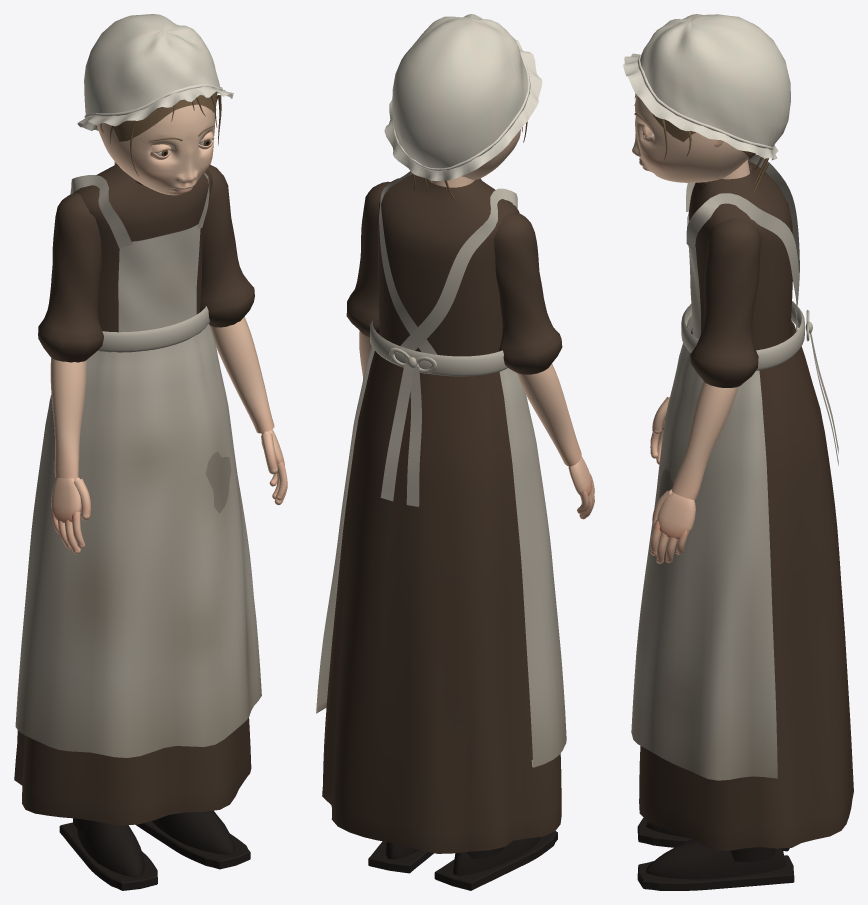
Rendered from becky.glb.
3 renders of one model, left to right at view 1: azimuth 30°, elevation 25°; view 2: azimuth 150°, elevation 25°; view 3: azimuth 270°, elevation 25°, orthographic.
Visible parts, largest first — view 1: body, head, arm_right, arm_right_forearm, arm_left, arm_left_forearm; view 2: body, head, arm_right, arm_right_forearm, arm_left; view 3: body, head, arm_left, arm_left_forearm, arm_right_forearm.
Boxes of the visible parts, x1,y1,x2,y2 form: body: (14, 163, 261, 890); head: (77, 14, 233, 195); arm_right: (38, 192, 103, 362); arm_right_forearm: (50, 357, 91, 554); arm_left: (200, 164, 254, 327); arm_left_forearm: (210, 317, 287, 505); body: (316, 171, 566, 890); head: (384, 14, 542, 199); arm_right: (494, 212, 562, 374); arm_right_forearm: (517, 364, 594, 519); arm_left: (346, 181, 390, 337); body: (631, 154, 853, 890); head: (623, 14, 790, 192); arm_left: (690, 218, 760, 387); arm_left_forearm: (650, 381, 738, 563); arm_right_forearm: (650, 397, 669, 464).
Size of the model in its own units: 0.3994 by 1.39 by 0.3462.
